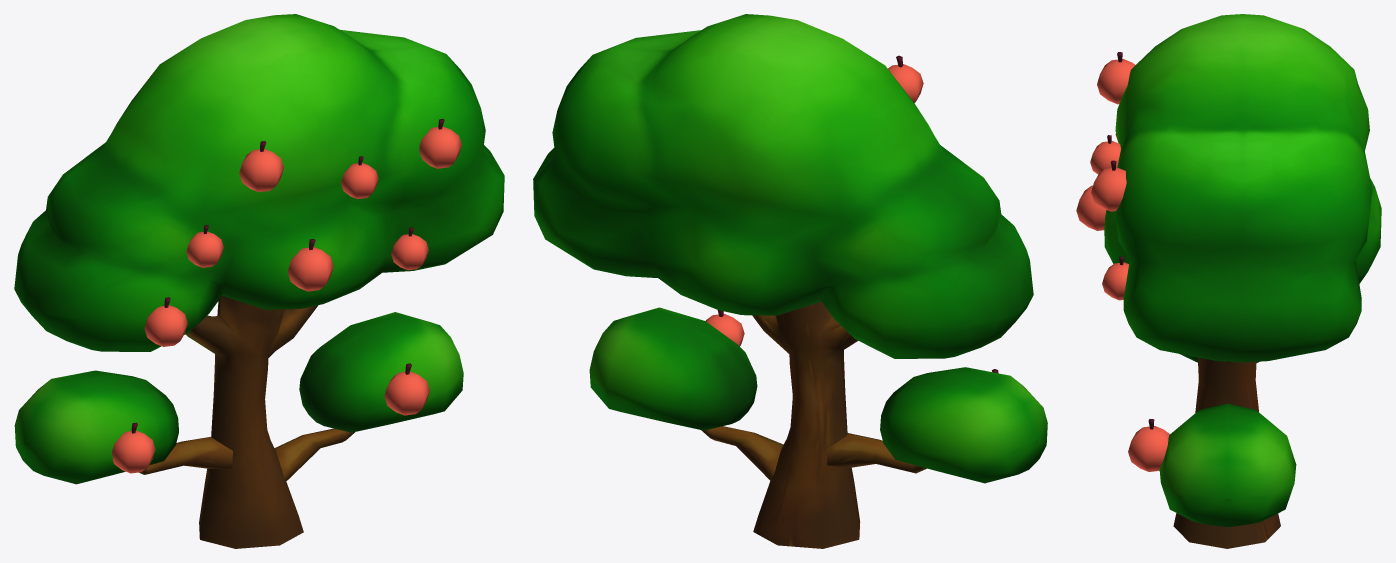
File: pingguoshu.fbx
3 views of the same model, side by side, from view 1: azimuth 30°, elevation 25°; view 2: azimuth 150°, elevation 25°; view 3: azimuth 270°, elevation 25° (orthographic). The views are drawn at different scales.
Visible parts, largest first — view 1: pingguoshu, pingguo, pingguo8, pingguo5, pingguo7, pingguo6, pingguo3, pingguo4, pingguo2, pingguo1; view 2: pingguoshu, pingguo5, pingguo8; view 3: pingguoshu, pingguo8, pingguo6, pingguo5, pingguo, pingguo2, pingguo1.
Part boxes in pixels (x1=…): pingguoshu: x1=14, y1=14, x2=504, y2=548; pingguo: x1=287, y1=239, x2=333, y2=291; pingguo8: x1=384, y1=363, x2=429, y2=415; pingguo5: x1=239, y1=141, x2=283, y2=192; pingguo7: x1=112, y1=422, x2=155, y2=473; pingguo6: x1=419, y1=119, x2=461, y2=168; pingguo3: x1=144, y1=297, x2=187, y2=346; pingguo4: x1=186, y1=225, x2=223, y2=267; pingguo2: x1=391, y1=227, x2=428, y2=270; pingguo1: x1=341, y1=156, x2=378, y2=199; pingguoshu: x1=533, y1=14, x2=1047, y2=548; pingguo5: x1=888, y1=55, x2=923, y2=102; pingguo8: x1=706, y1=310, x2=744, y2=346; pingguoshu: x1=1104, y1=14, x2=1381, y2=548; pingguo8: x1=1128, y1=419, x2=1169, y2=471; pingguo6: x1=1091, y1=160, x2=1126, y2=211; pingguo5: x1=1097, y1=52, x2=1135, y2=104; pingguo: x1=1076, y1=185, x2=1106, y2=230; pingguo2: x1=1102, y1=256, x2=1128, y2=300; pingguo1: x1=1090, y1=135, x2=1120, y2=174.
Size of the model in its own units: 282 by 279 by 154.
